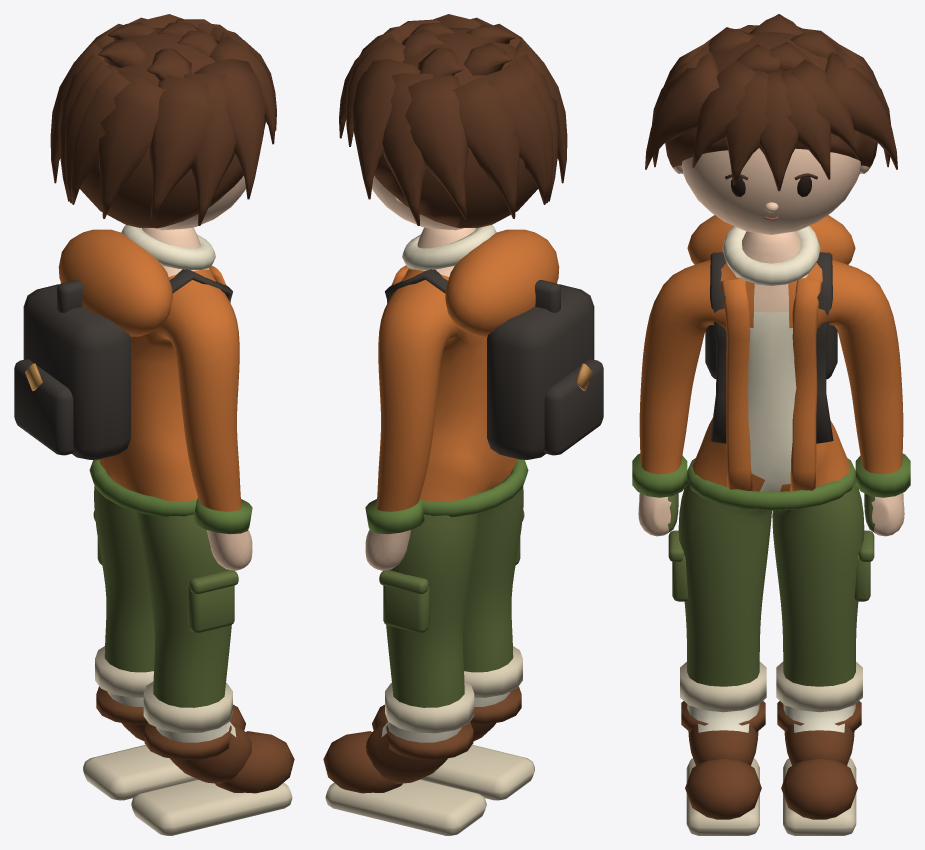
Rendered from character_base.glb.
The picture shows the model from 3 angles, left to right: view 1: azimuth 30°, elevation 25°; view 2: azimuth 150°, elevation 25°; view 3: azimuth 270°, elevation 25°; orthographic projection.
Parts seen in each view (by area): view 1: character_base_body, character_base_chr_hair, character_base_chr_pack, character_base_chr_sole, character_base_chr_jacket, character_base_chr_boot, character_base_chr_trim, character_base_chr_pants, character_base_chr_shirt, character_base_chr_skin; view 2: character_base_body, character_base_chr_hair, character_base_chr_pack, character_base_chr_sole, character_base_chr_jacket, character_base_chr_boot, character_base_chr_trim, character_base_chr_pants, character_base_chr_shirt, character_base_chr_skin; view 3: character_base_body, character_base_chr_hair, character_base_chr_jacket, character_base_chr_skin, character_base_chr_boot, character_base_chr_sole, character_base_chr_trim, character_base_chr_pack, character_base_chr_shirt, character_base_chr_pants.
Part boxes in pixels (x1,y1,x2,y2): character_base_body: [94, 227, 252, 783]; character_base_chr_hair: [50, 14, 276, 228]; character_base_chr_pack: [14, 269, 232, 459]; character_base_chr_sole: [83, 646, 292, 835]; character_base_chr_jacket: [58, 229, 230, 336]; character_base_chr_boot: [96, 686, 294, 793]; character_base_chr_trim: [89, 459, 252, 534]; character_base_chr_pants: [93, 510, 238, 632]; character_base_chr_shirt: [121, 225, 215, 270]; character_base_chr_skin: [154, 175, 245, 230]; character_base_body: [365, 227, 523, 783]; character_base_chr_hair: [339, 14, 567, 228]; character_base_chr_pack: [385, 269, 603, 459]; character_base_chr_sole: [325, 646, 534, 835]; character_base_chr_jacket: [387, 229, 559, 336]; character_base_chr_boot: [323, 686, 521, 793]; character_base_chr_trim: [365, 459, 528, 534]; character_base_chr_pants: [379, 510, 524, 632]; character_base_chr_shirt: [402, 225, 496, 270]; character_base_chr_skin: [372, 175, 463, 230]; character_base_body: [638, 231, 904, 765]; character_base_chr_hair: [645, 14, 897, 191]; character_base_chr_jacket: [687, 215, 855, 491]; character_base_chr_skin: [673, 148, 869, 234]; character_base_chr_boot: [681, 701, 861, 819]; character_base_chr_sole: [680, 661, 862, 835]; character_base_chr_trim: [632, 453, 910, 510]; character_base_chr_pack: [705, 252, 837, 443]; character_base_chr_shirt: [722, 226, 820, 285]; character_base_chr_pants: [668, 530, 874, 601].
Size of the model in its own units: 0.4423 by 1.4 by 0.4636.
